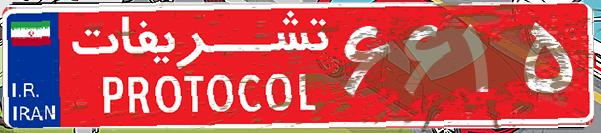1: (460, 20, 520, 115)
5: (520, 20, 580, 115)
6: (340, 20, 400, 115), (400, 20, 460, 115)
تشریفات: (60, 8, 340, 125)
